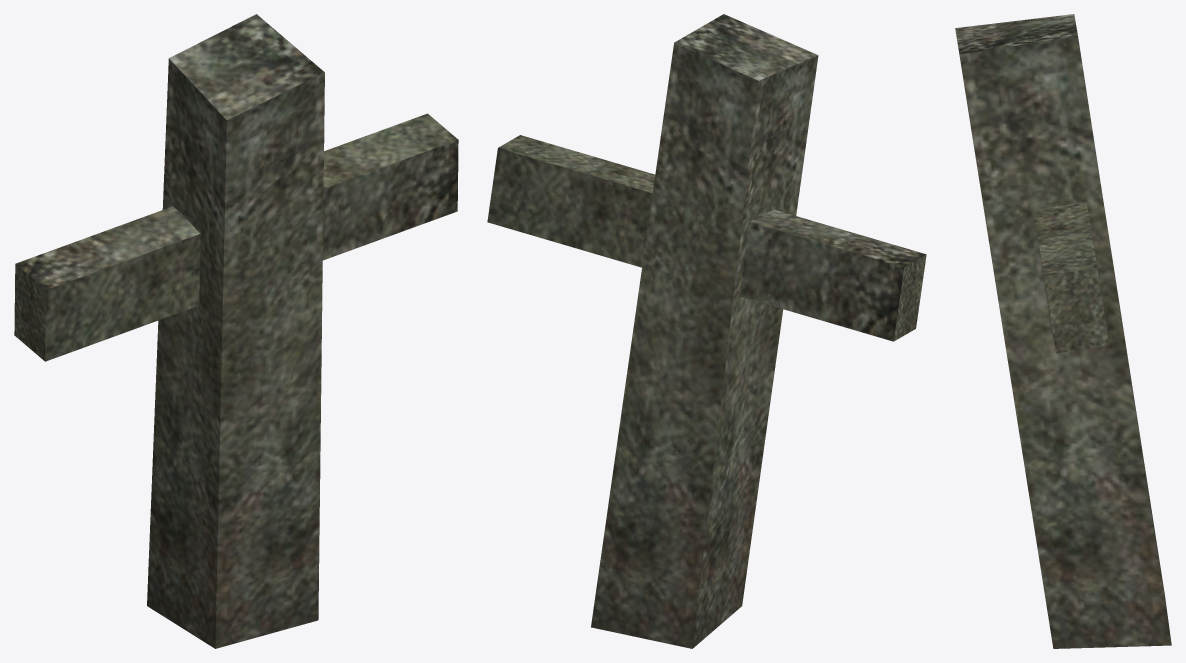
The model's file is tombstone_sm_06.fbx.
3 views of the same model, side by side, from view 1: azimuth 30°, elevation 25°; view 2: azimuth 150°, elevation 25°; view 3: azimuth 270°, elevation 25° (orthographic). The views are drawn at different scales.
Visible parts, largest first — view 1: mesh_0, mesh_1; view 2: mesh_0, mesh_1; view 3: mesh_0, mesh_1.
Boxes of the visible parts, bbox=[...] form: mesh_0: bbox=[147, 14, 324, 648]; mesh_1: bbox=[14, 113, 458, 361]; mesh_0: bbox=[591, 14, 818, 648]; mesh_1: bbox=[487, 135, 926, 341]; mesh_0: bbox=[955, 14, 1171, 648]; mesh_1: bbox=[1033, 202, 1109, 353].
Size of the model in its own units: 81.22 by 109 by 36.15.
Materials: 1 (1 with a texture image).
